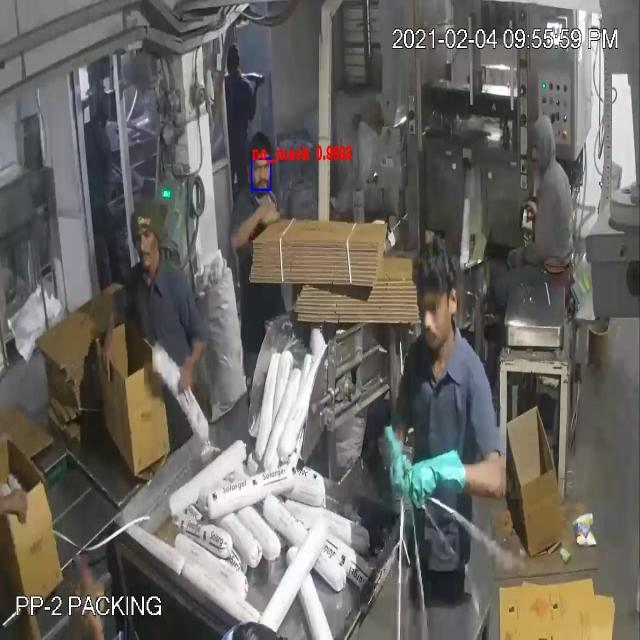gloves: (404, 442, 475, 516), (382, 412, 414, 508)
no-gloves: (49, 534, 127, 640), (93, 297, 127, 403), (228, 202, 288, 260), (177, 318, 209, 412), (1, 456, 38, 530)
